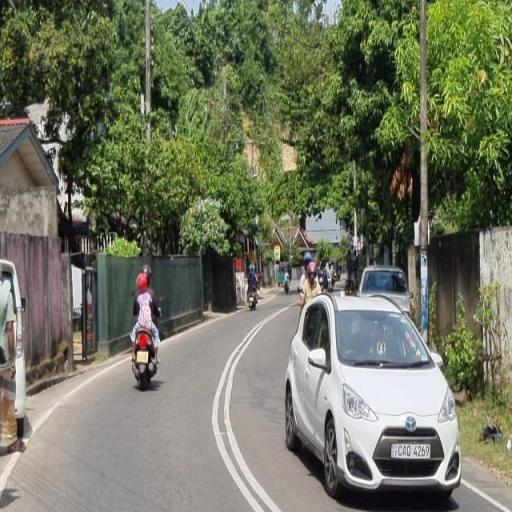double_white_line: (210, 313, 284, 510)
